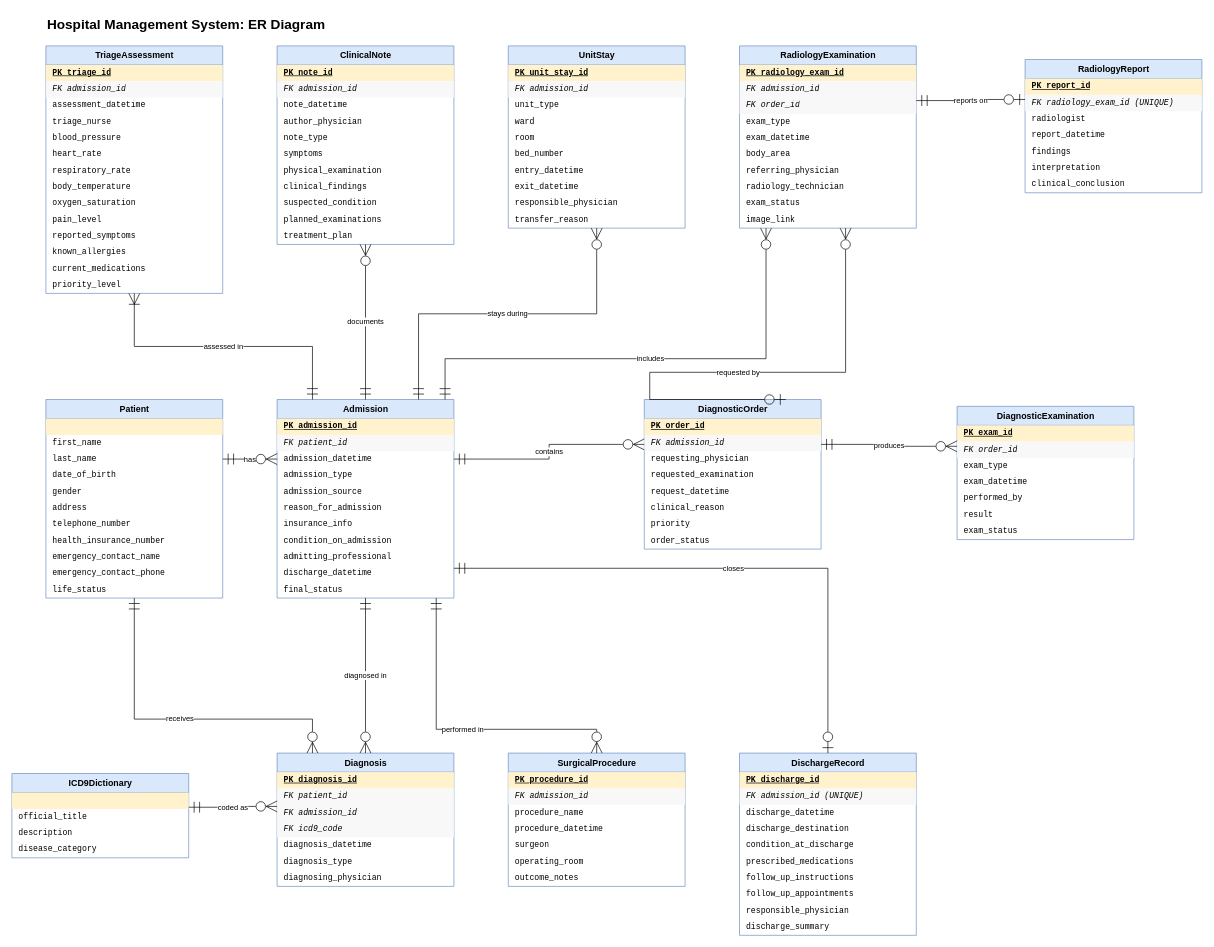
Some shapes in this 1214 by 947 pixel diagram are drawn without their labels. The shapes that lost their labels are listed below. From the top down, each one's centre as x and y in pixels, then its label:
At pixel 134 426: "PK patient_id".
At pixel 100 800: "PK icd9_code".
